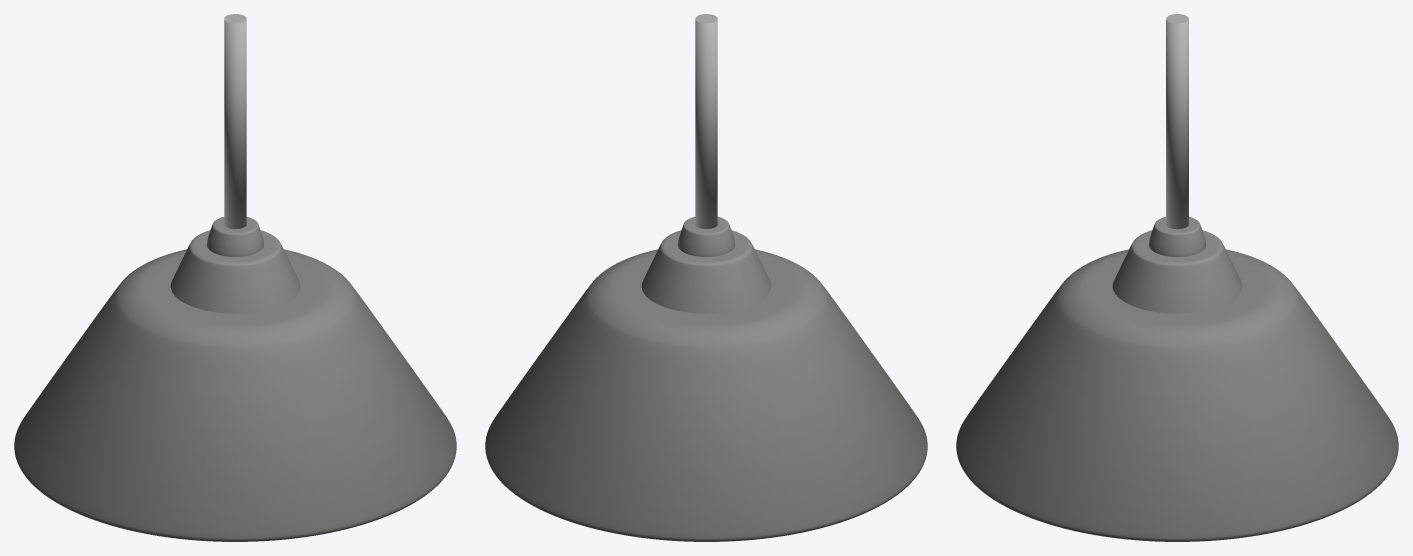
Rendered from HH_CellingLight.fbx.
3 views of the same model, side by side, from view 1: azimuth 30°, elevation 25°; view 2: azimuth 150°, elevation 25°; view 3: azimuth 270°, elevation 25° (orthographic).
Parts seen in each view (by area): view 1: LightShade; view 2: LightShade; view 3: LightShade.
Part boxes in pixels (x1=…): LightShade: x1=14, y1=14, x2=456, y2=541; LightShade: x1=485, y1=14, x2=927, y2=541; LightShade: x1=956, y1=14, x2=1398, y2=541.
Size of the model in its own units: 195 by 210 by 195.
1 material, 1 textured.
